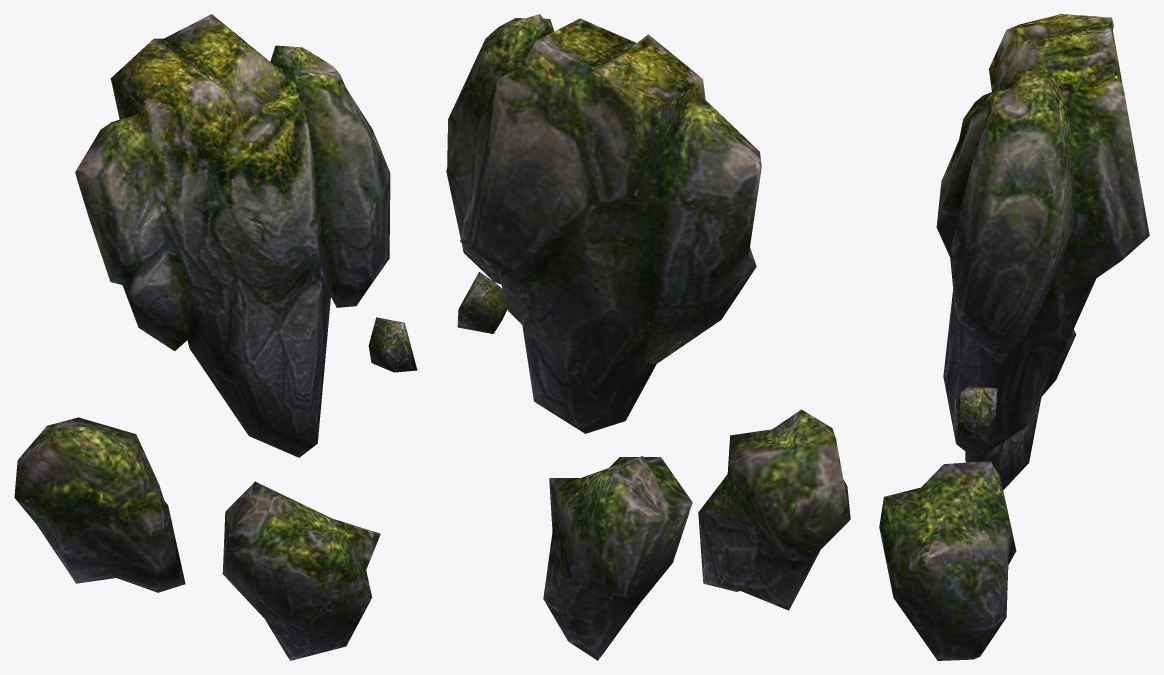
File: ENV_TY_CJWJ_02_01.FBX
3 renders of one model, left to right at view 1: azimuth 30°, elevation 25°; view 2: azimuth 150°, elevation 25°; view 3: azimuth 270°, elevation 25°, orthographic. The views are drawn at different scales.
Visible parts, largest first — view 1: ENV_TY_CJWJ_02_01; view 2: ENV_TY_CJWJ_02_01; view 3: ENV_TY_CJWJ_02_01.
Part boxes in pixels (x1,y1,x2,y2): ENV_TY_CJWJ_02_01: (14, 14, 417, 660); ENV_TY_CJWJ_02_01: (446, 14, 850, 660); ENV_TY_CJWJ_02_01: (879, 14, 1149, 660).
Size of the model in its own units: 125 by 194 by 76.71.
